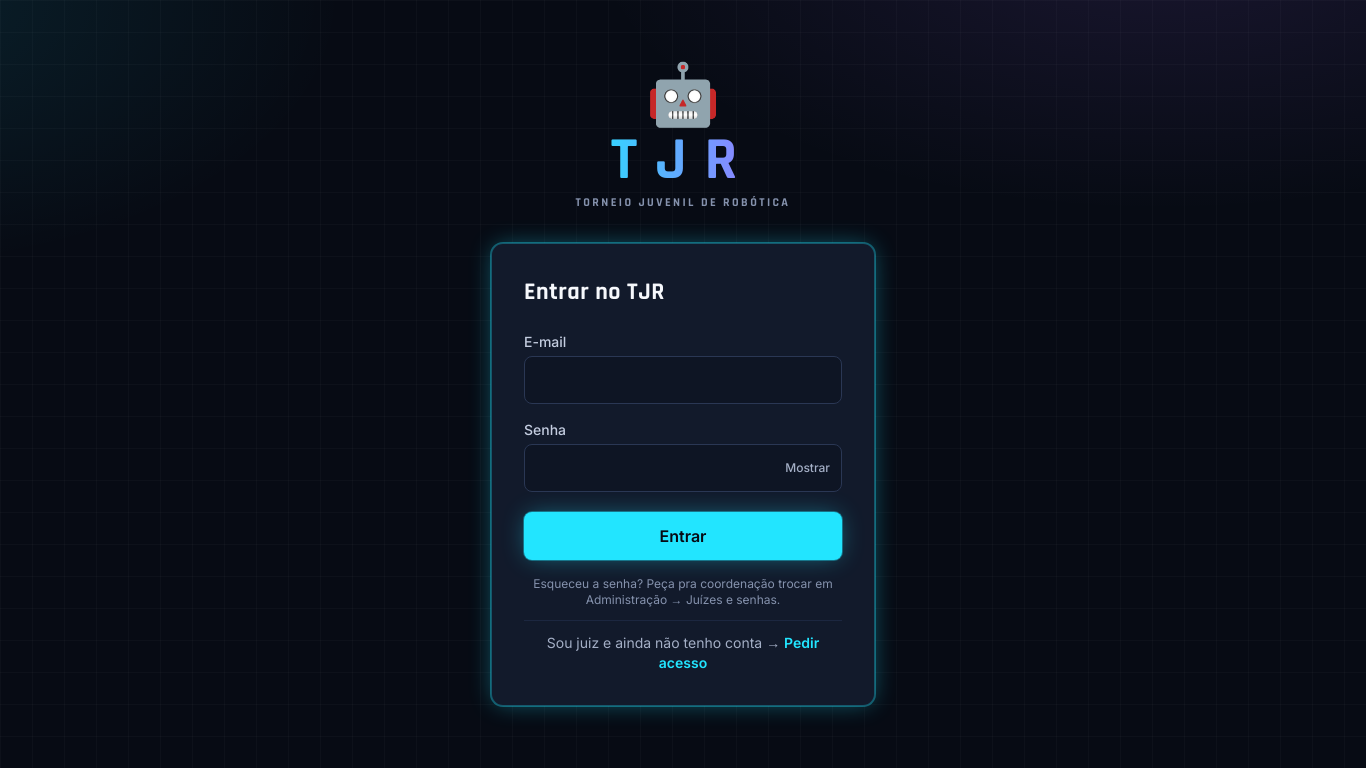
LoginPage › avisa com calma quando o pedido de acesso ainda nao foi aprovado
The image size is (1366, 768).
Type "juiz.novo@tjr.app" into the field labelled "E-mail" at (683, 380), box [524,356,842,404]
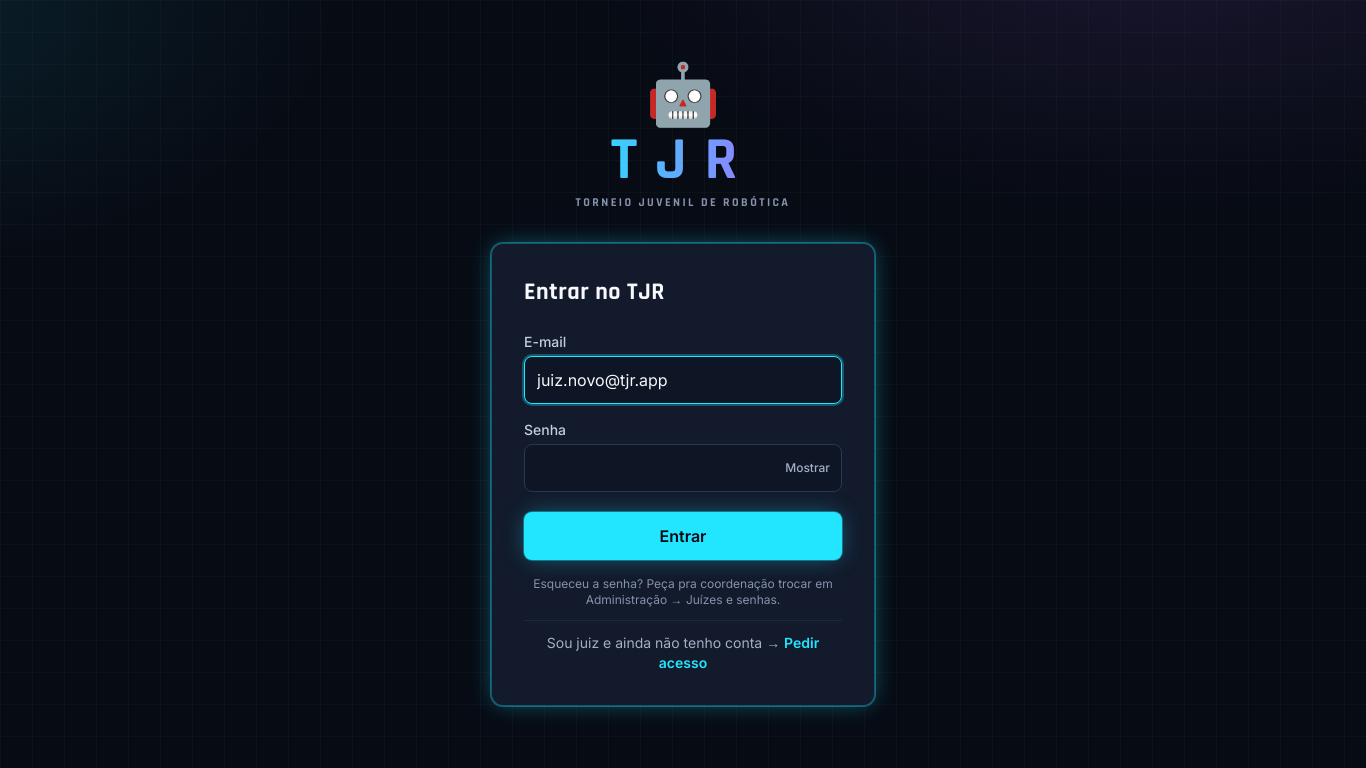
Type "segredo1" into the password field labelled "Senha" at (683, 468), box [524,444,842,492]
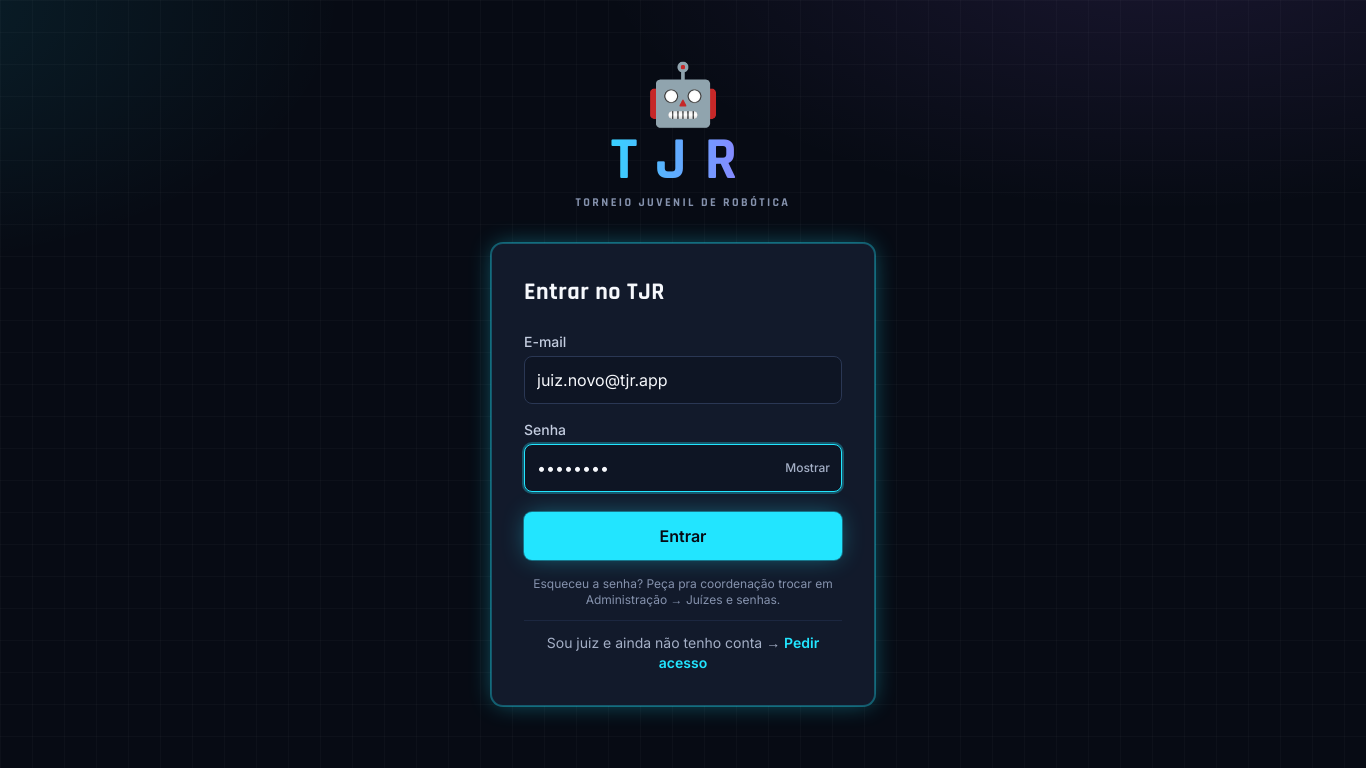
Click the button "Entrar" at (683, 536), box [524,512,842,560]
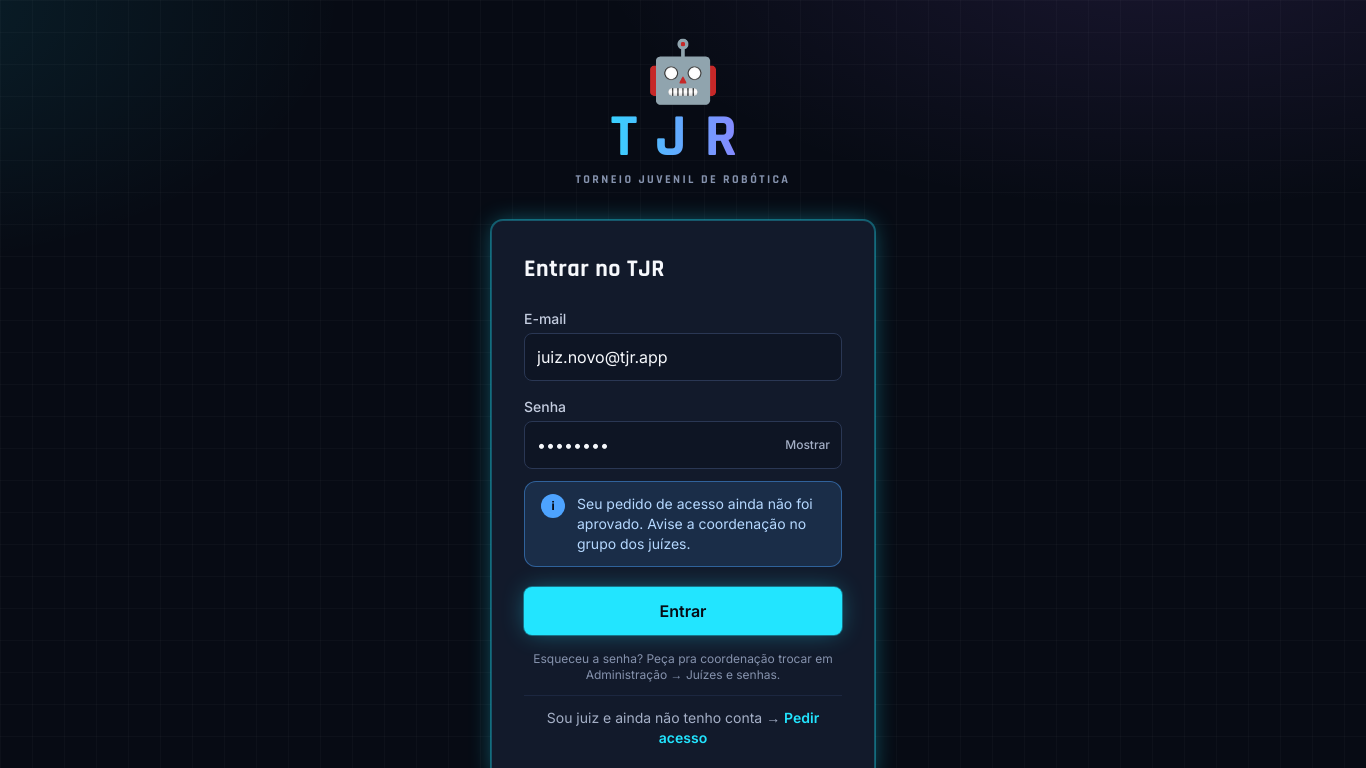
Expected: the text "ainda não foi aprovado" is shown, [577,495,813,552]
